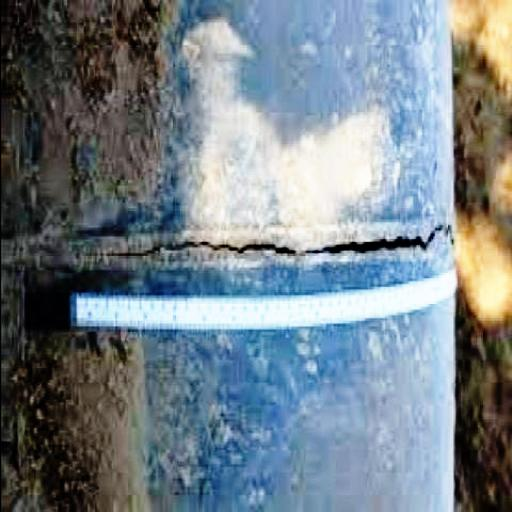crack: (71, 220, 455, 268)
